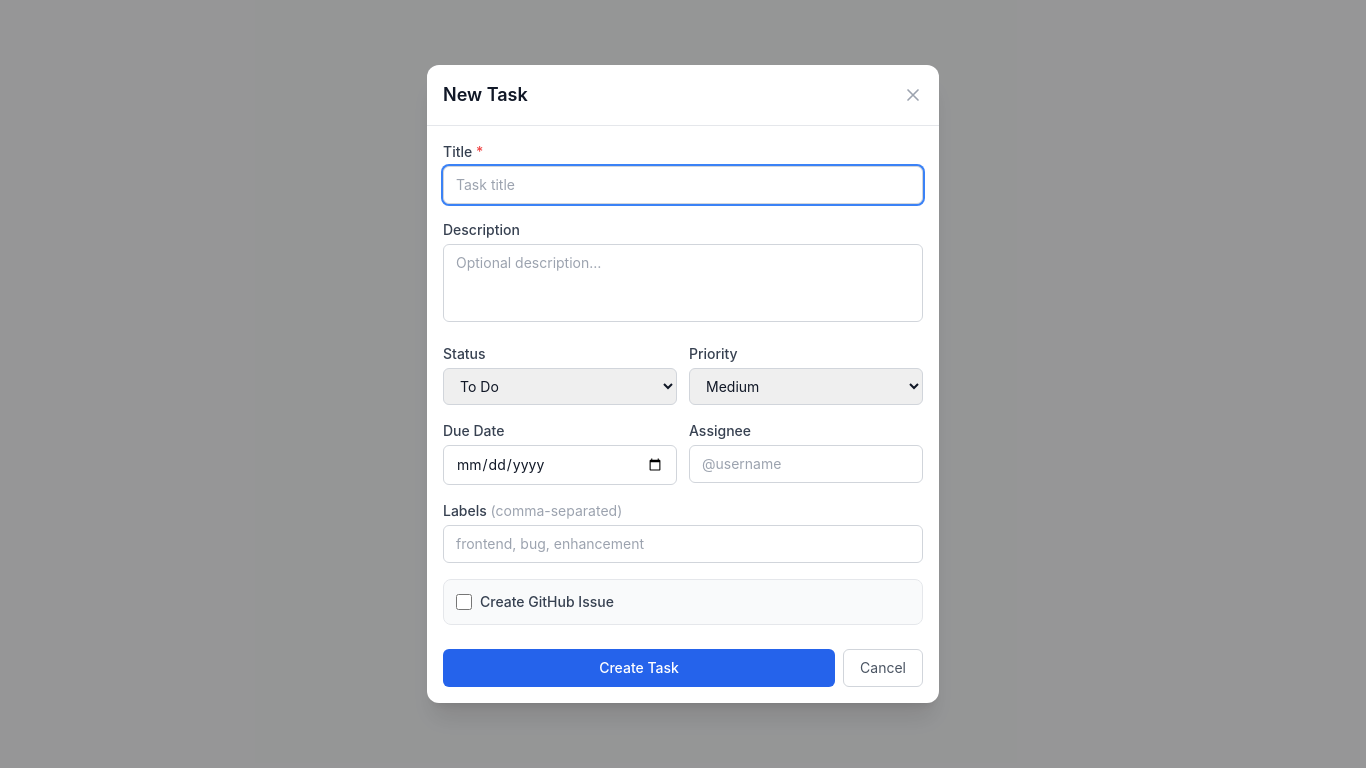
Test case: TaskForm — Create mode › shows repo selector when GitHub issue checkbox is checked
Click the checkbox labelled "Create GitHub Issue": (464, 602) [456,594,472,610]
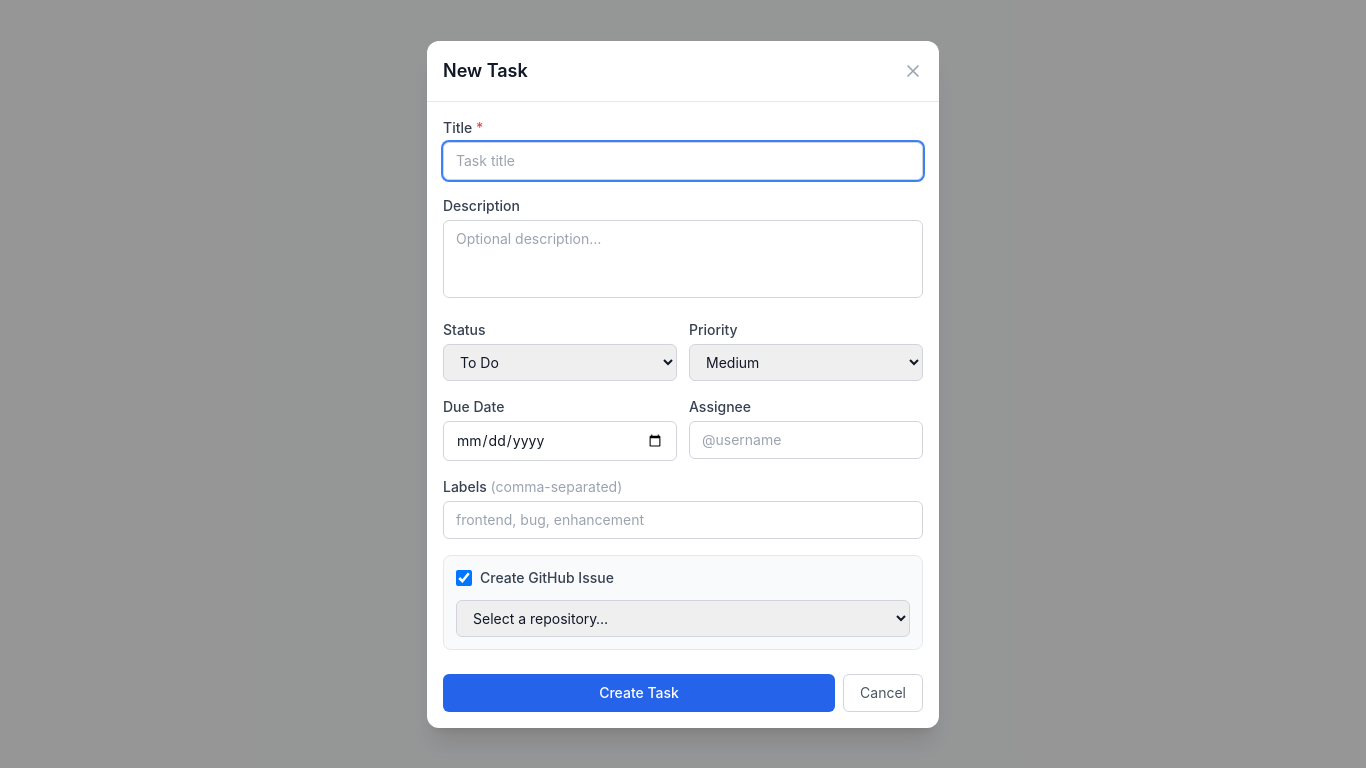
Now the dropdown named "Select repository" is shown, box [456,600,910,636]
